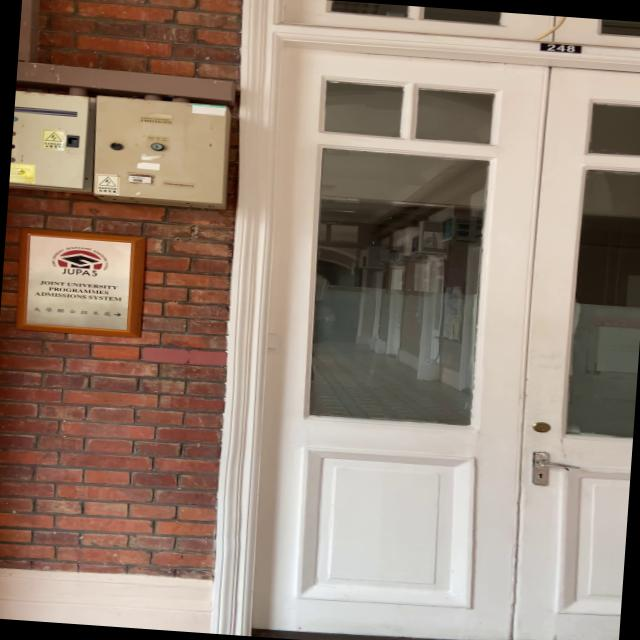room248: (535, 34, 588, 56)
